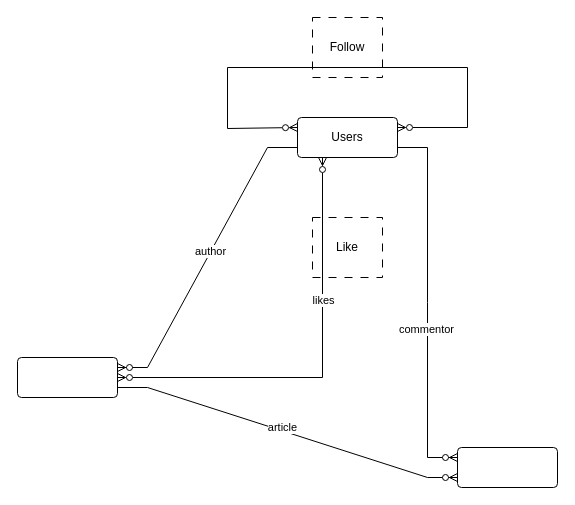
This 575x505 diagram has some shape labels left out. Here are the shapes that lost their labels. From the top down, the box of each, then its label:
(16, 356, 118, 398): Articles
(456, 446, 558, 488): Comments
